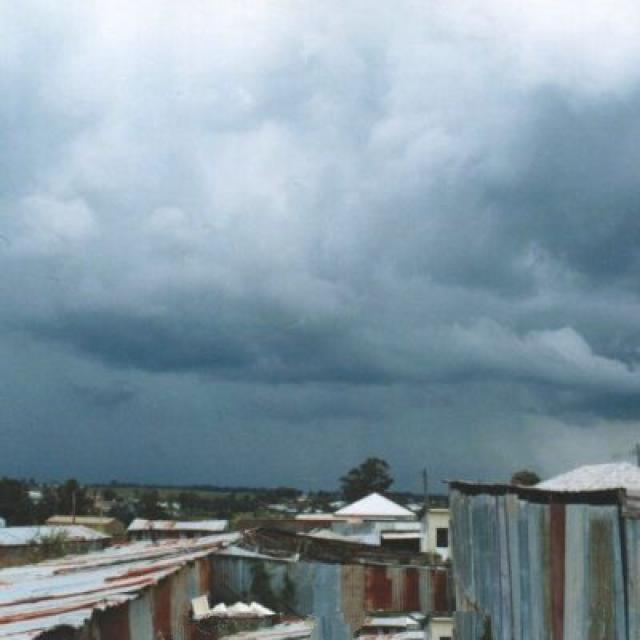St: (2, 11, 640, 445)
